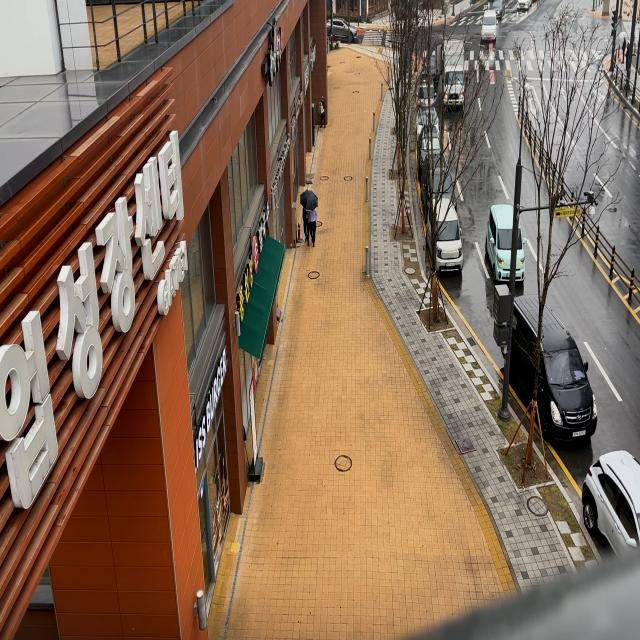Car: (500, 292, 608, 459), (581, 450, 640, 559), (481, 200, 534, 286), (426, 195, 462, 271), (418, 152, 457, 206), (414, 127, 444, 162), (410, 78, 438, 110), (479, 4, 502, 42), (329, 19, 360, 46), (414, 104, 440, 136), (490, 0, 507, 21)
Truck: (438, 36, 472, 112)
